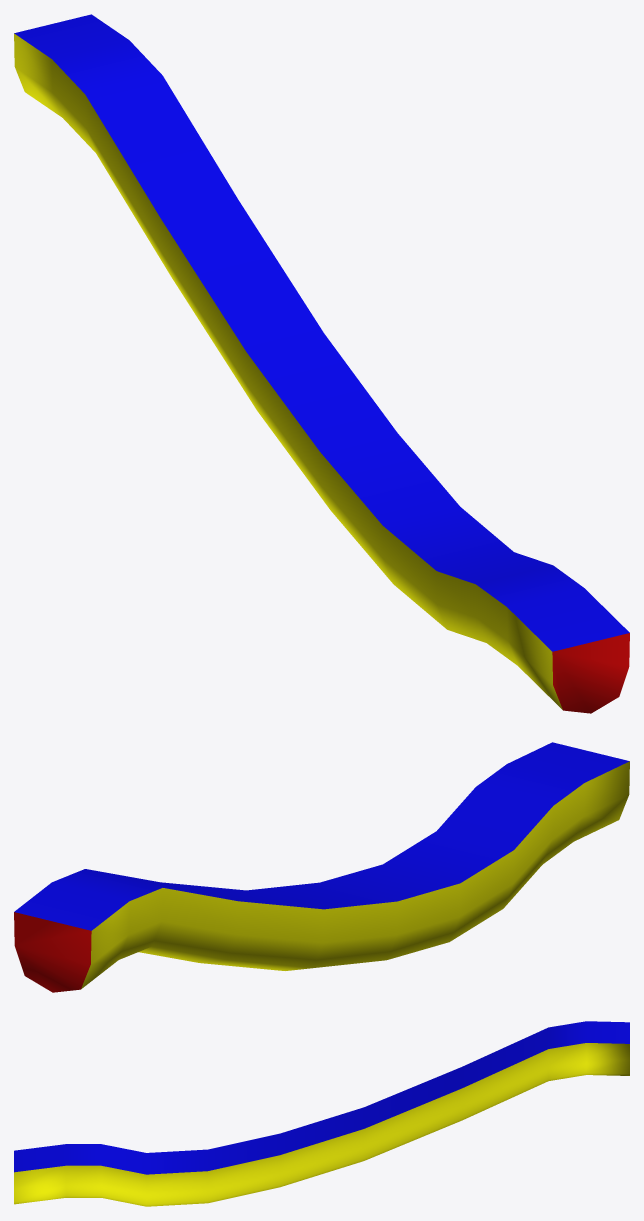
The picture shows the model from 3 angles, top to bottom: view 1: azimuth 30°, elevation 25°; view 2: azimuth 150°, elevation 25°; view 3: azimuth 270°, elevation 25°; orthographic projection. The views are drawn at different scales.
Visible parts, largest first — view 1: polySurface103; view 2: polySurface103; view 3: polySurface103.
Boxes of the visible parts, x1,y1,x2,y2 form: polySurface103: (14,14,629,713); polySurface103: (14,742,629,992); polySurface103: (14,1021,629,1206).
Size of the model in its own units: 23.58 by 87.6 by 283.
